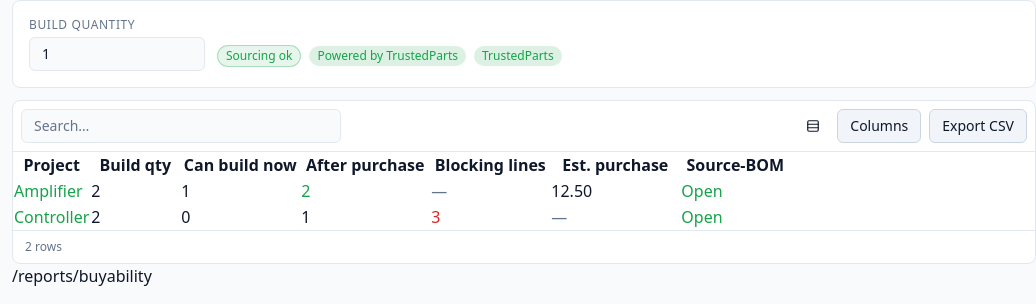
it: BomBuyabilityReport › build quantity input updates URL and refetches
Expected: the link "Amplifier" is shown, x1=14 y1=180 x2=82 y2=202
Replace the text in the number field labelled "Build quantity" with "5". click: (117, 54)
box: x1=29 y1=37 x2=205 y2=71
Then press Enter
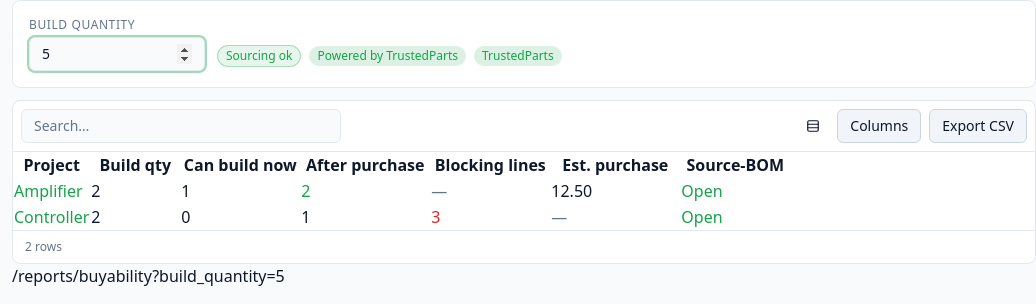
Expected: the link "Amplifier" is shown, x1=14 y1=180 x2=82 y2=202
Result: the text with test id "location" shows "build_quantity=5" at x1=152 y1=265 x2=285 y2=287
